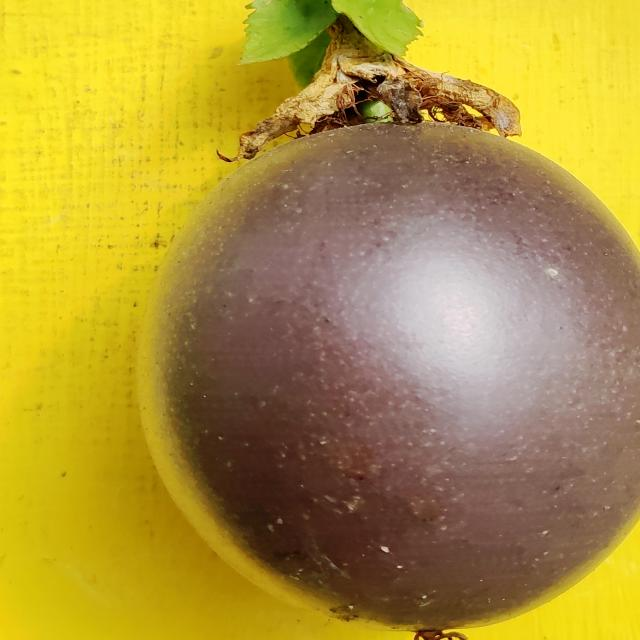Estado-6: (153, 19, 640, 625)
